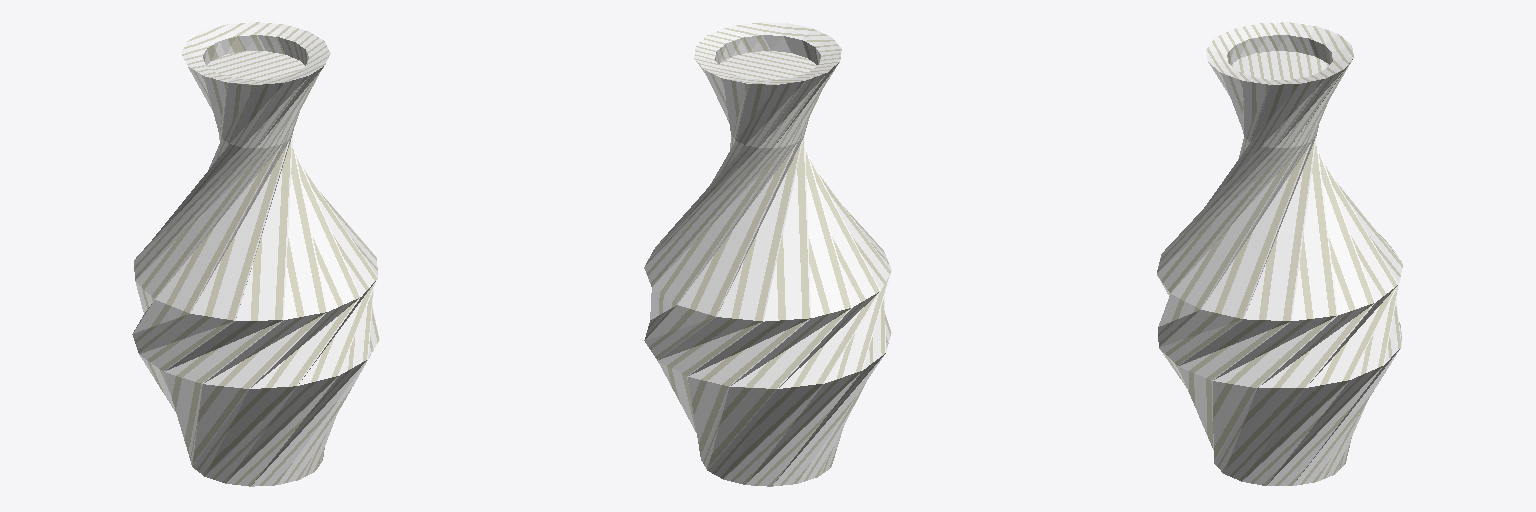
3 views of the same model, side by side, from view 1: azimuth 30°, elevation 25°; view 2: azimuth 150°, elevation 25°; view 3: azimuth 270°, elevation 25° (orthographic).
Parts seen in each view (by area): view 1: Cylinder; view 2: Cylinder; view 3: Cylinder.
Part boxes in pixels (bbox=[...]): Cylinder: bbox=[132, 22, 379, 486]; Cylinder: bbox=[644, 22, 891, 486]; Cylinder: bbox=[1157, 22, 1402, 485].
Bounding box in the file's own units: 7.54 × 13.64 × 7.54.
1 materials, 1 textured.